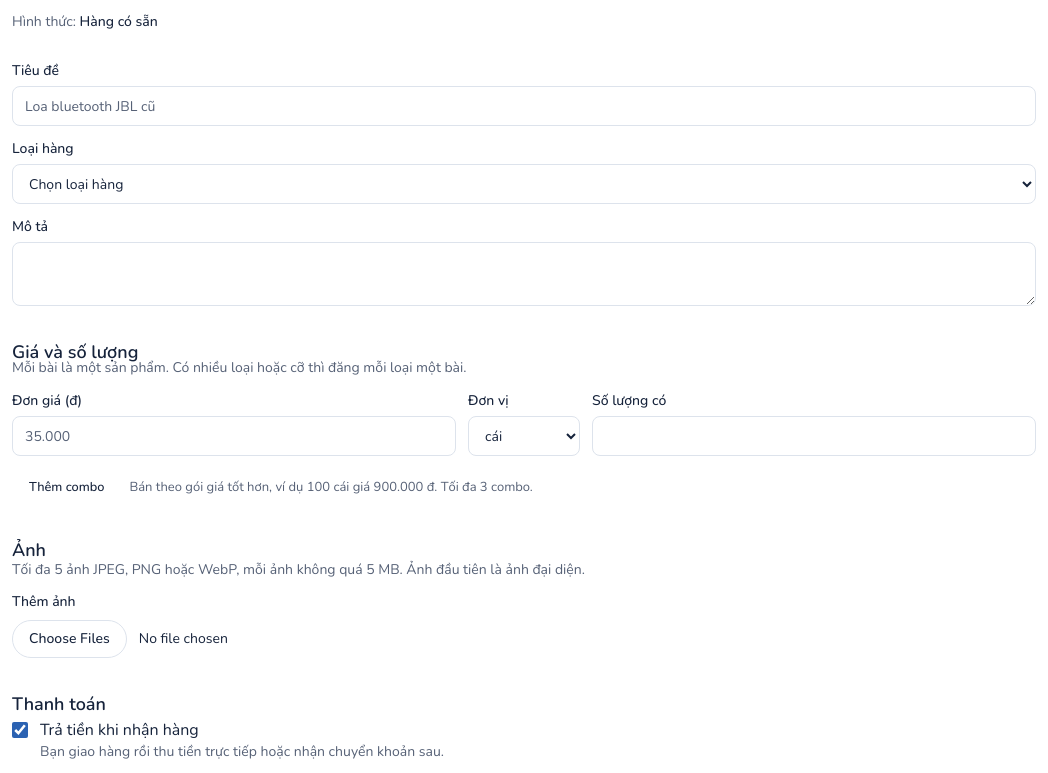
Test: ListingForm › product › adds and removes combos, at most three
The image size is (1048, 773).
Click the button "Thêm combo". click: (67, 488)
box: x1=12 y1=472 x2=121 y2=504
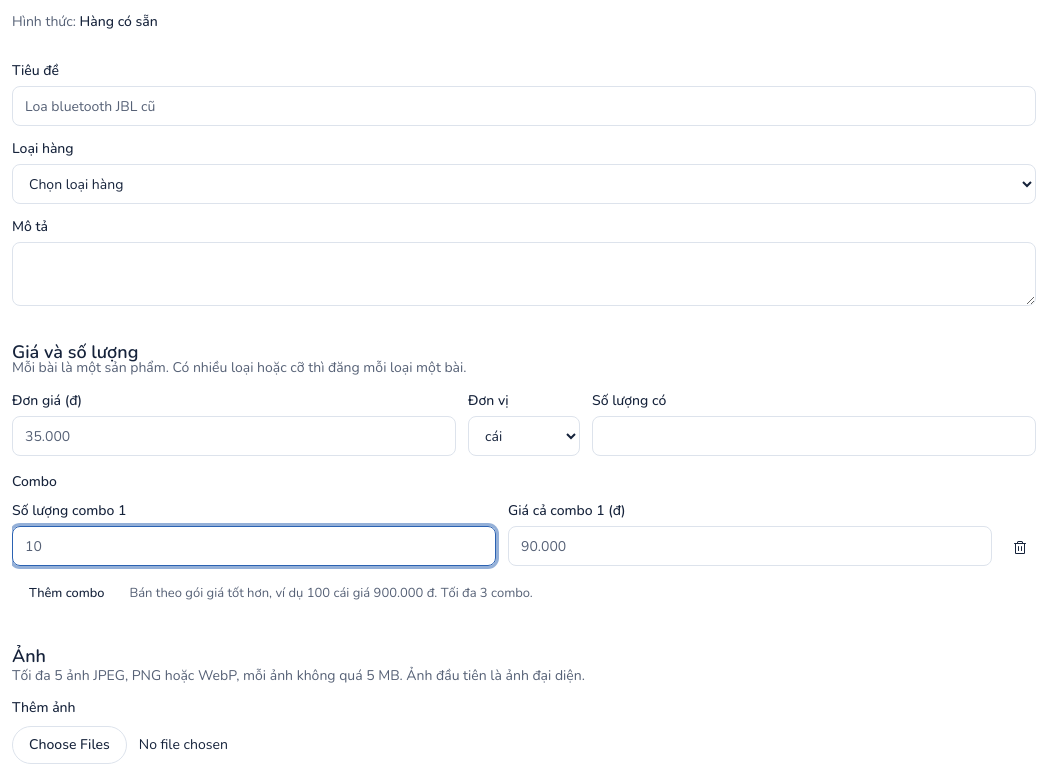
Click the button "Thêm combo". click: (67, 594)
box: x1=12 y1=578 x2=121 y2=610
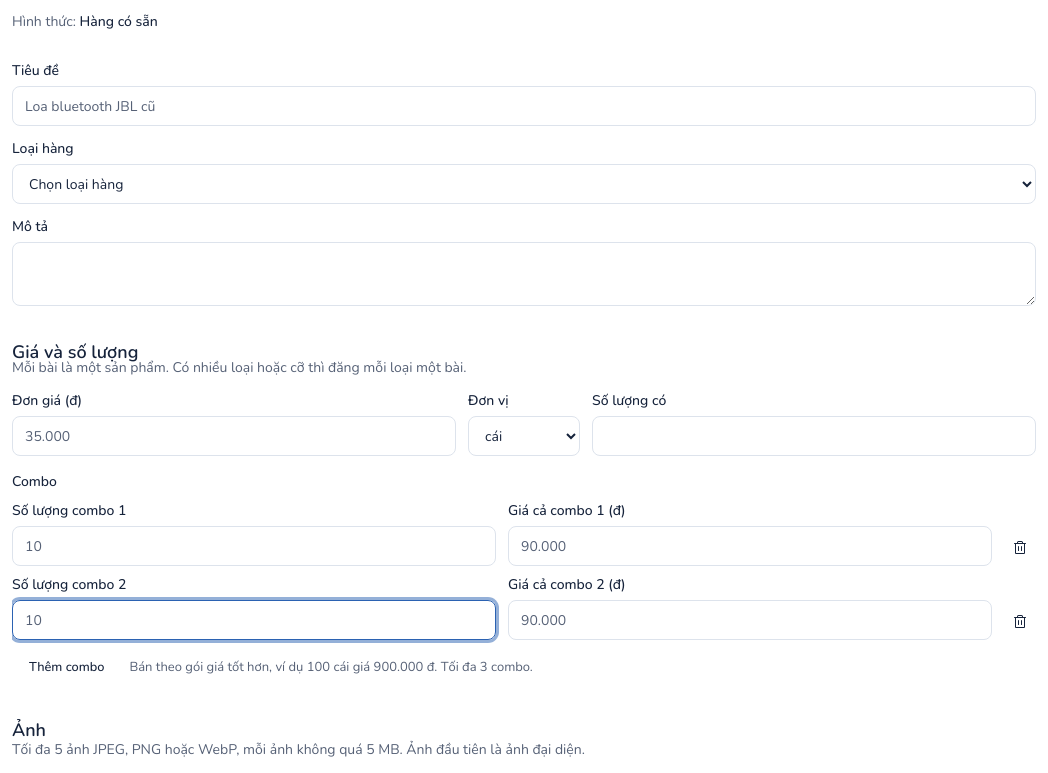
Click the button "Thêm combo". click: (67, 668)
box: x1=12 y1=652 x2=121 y2=684
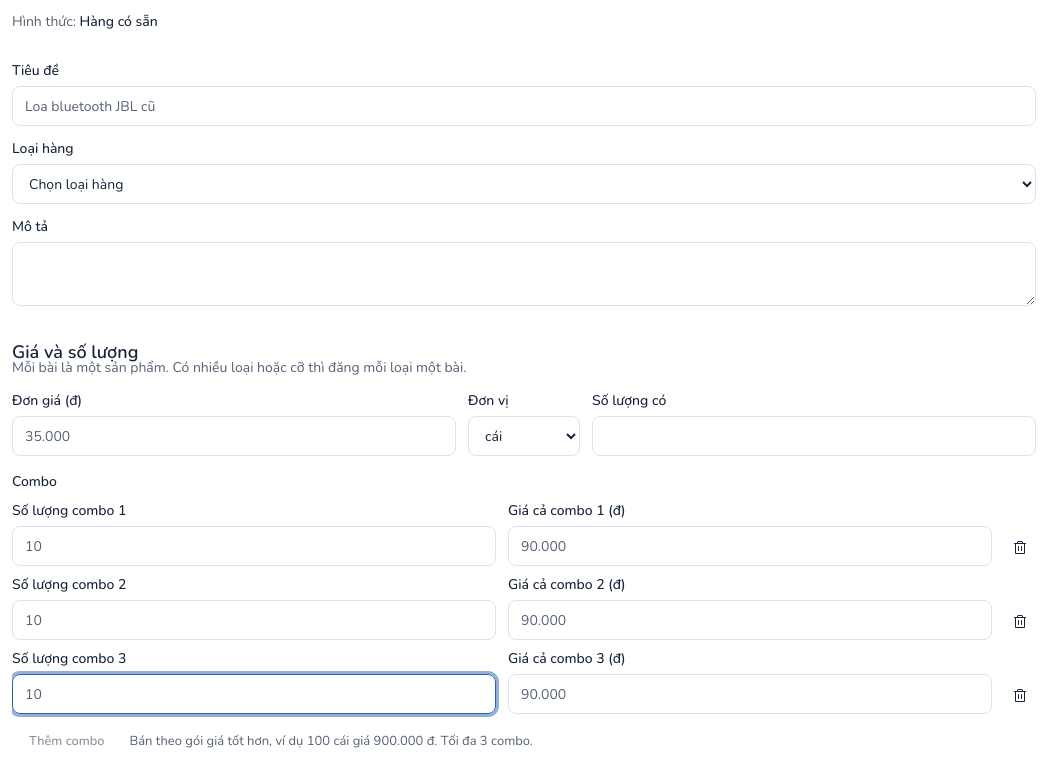
Expected: the field labelled "Số lượng combo 3" is shown, x1=12 y1=674 x2=496 y2=714
Expected: the button "Thêm combo" is disabled, x1=12 y1=726 x2=121 y2=758
Click the button named "Xóa combo 3". click: (1020, 696)
box: x1=1004 y1=680 x2=1036 y2=712
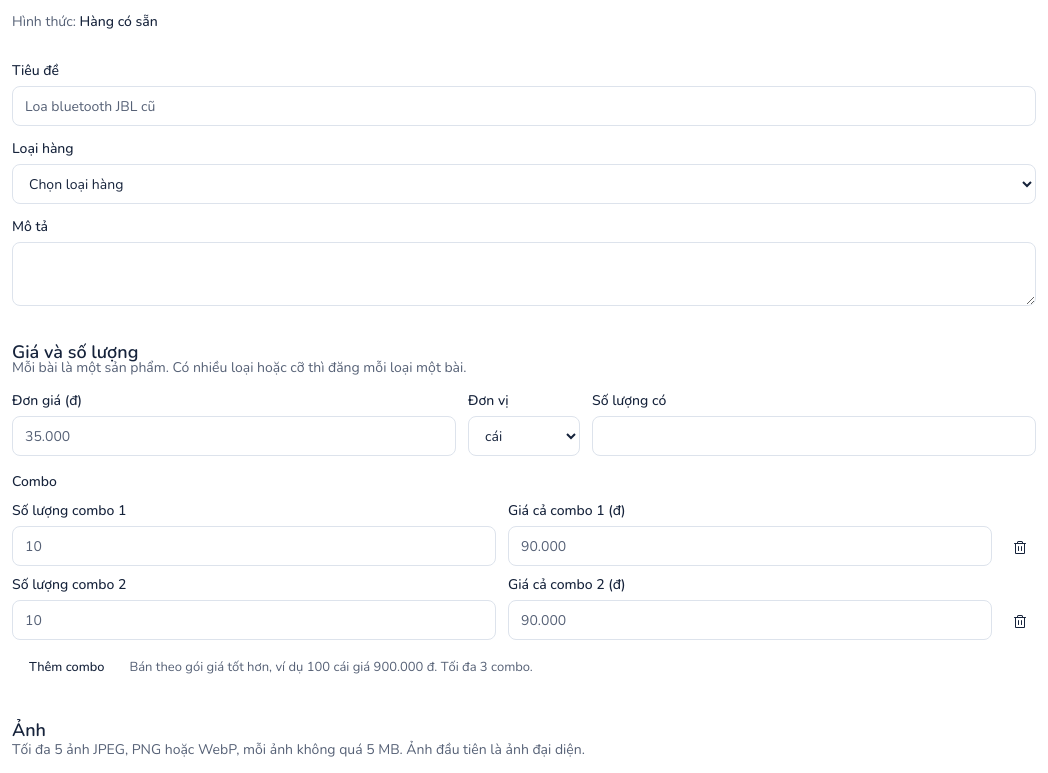
Expected: the label labelled "Số lượng combo 3" is gone
